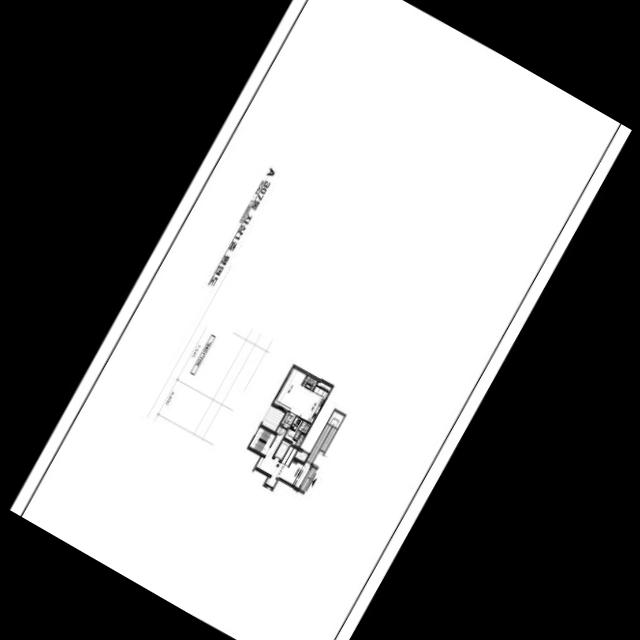background: (9, 0, 631, 640)
space_elevator: (273, 439, 290, 460)
space_elevator_hall: (256, 426, 302, 487)
space_front: (281, 411, 295, 428)
space_kitchen: (299, 386, 328, 423)
space_living_room: (273, 367, 312, 416)
space_multipurpose_space: (293, 420, 310, 439)
space_other: (306, 410, 344, 463), (261, 405, 284, 431), (299, 466, 317, 492), (292, 461, 310, 487), (284, 419, 302, 444), (294, 450, 308, 461), (316, 382, 331, 391)
space_outdoor_room: (295, 433, 304, 447)
space_staircase: (249, 426, 275, 454), (302, 375, 317, 390)
space_toilet: (290, 416, 300, 430)
